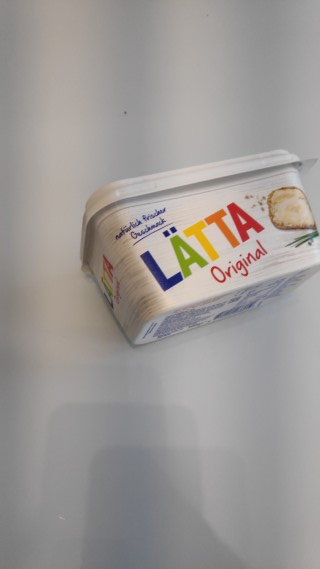laetta: (79, 149, 320, 348)
